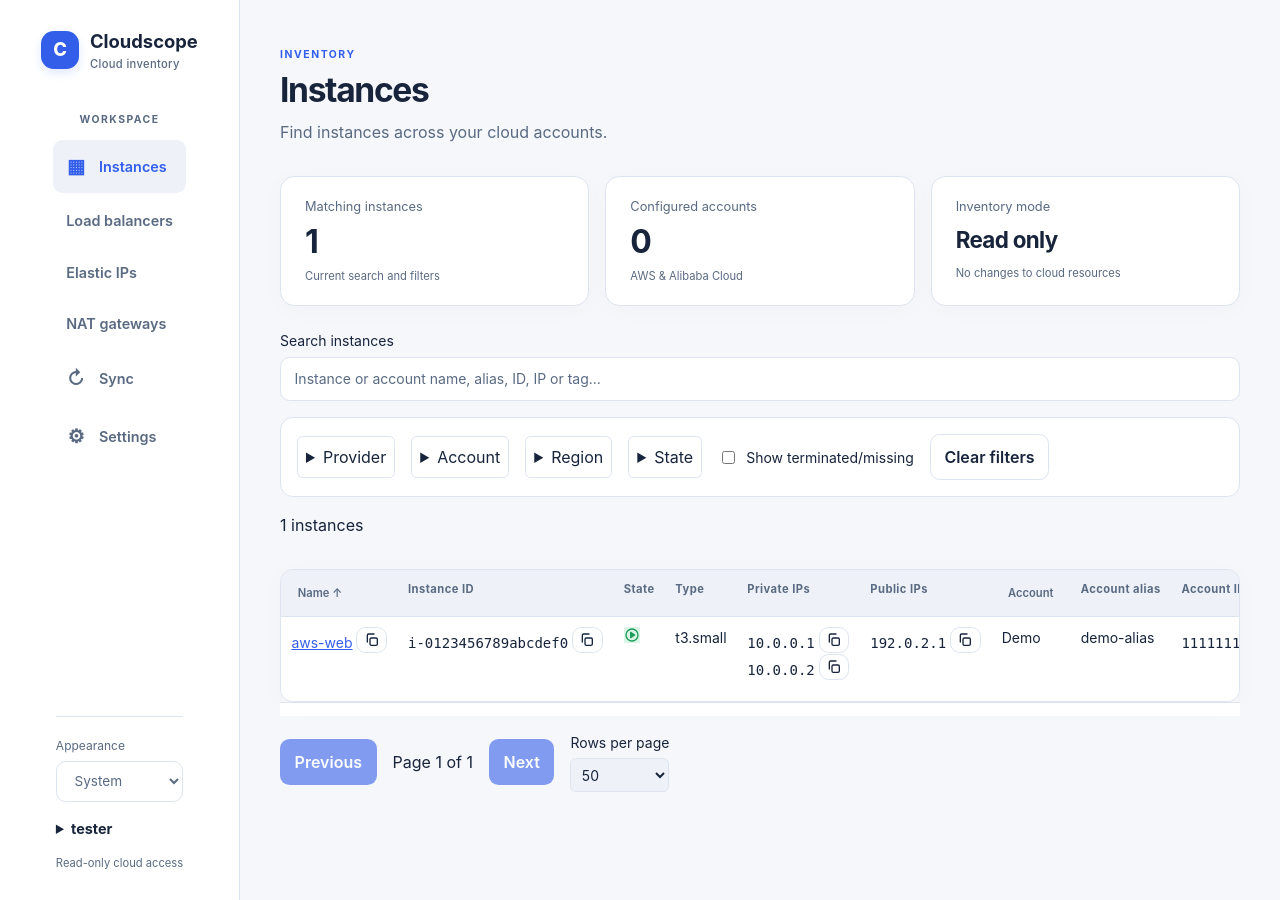
Scenario: search result link opens the protected details route in the application
The image size is (1280, 900).
What coordinates should you click on to do the following:
click the link "aws-web"
I would click on:
 (322, 643)
Its box is [291,634,352,651].
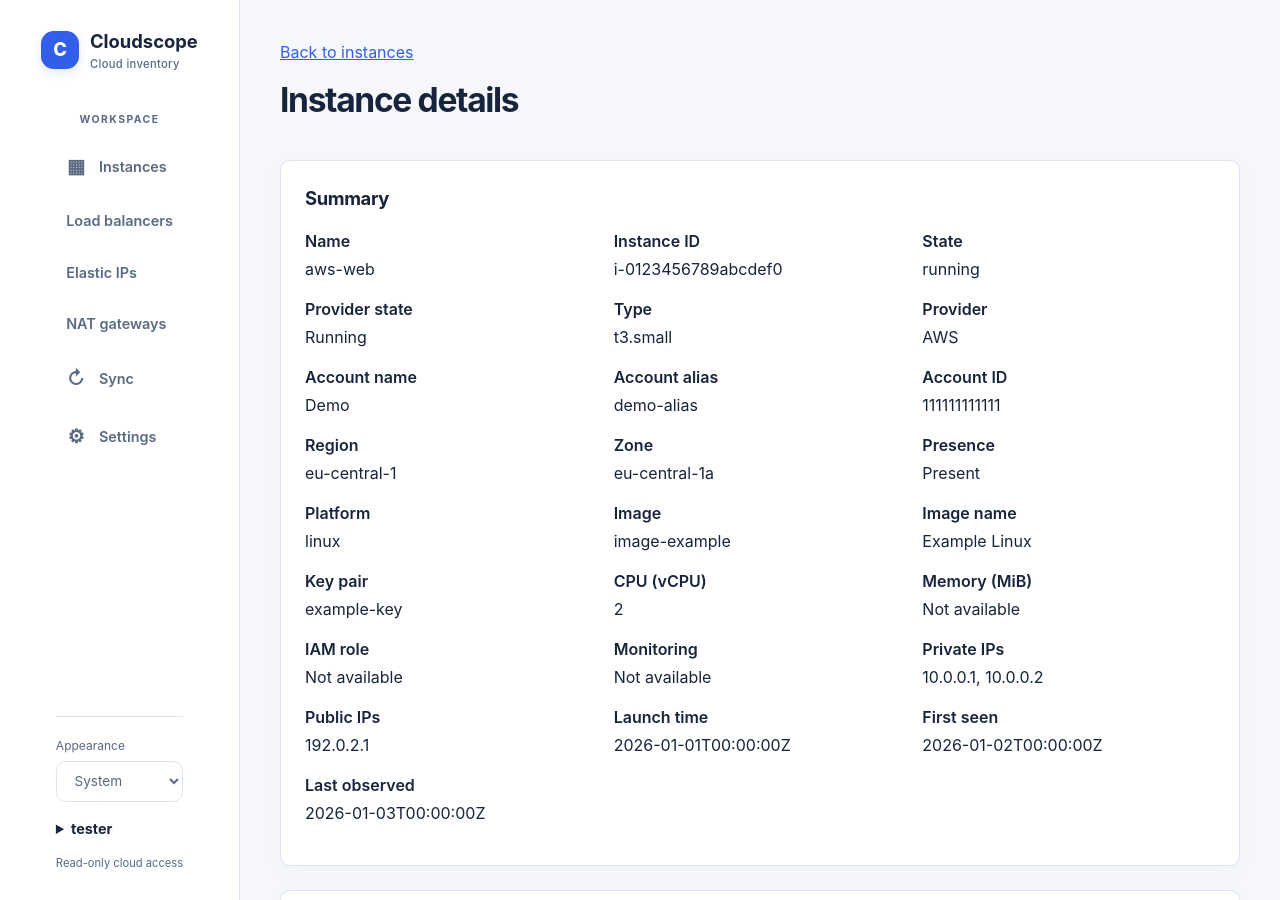
Check: the navigation bar named "Main navigation" is shown, box [66,154,173,448]
Check: the element "Summary" is shown, box [280,160,1240,866]
